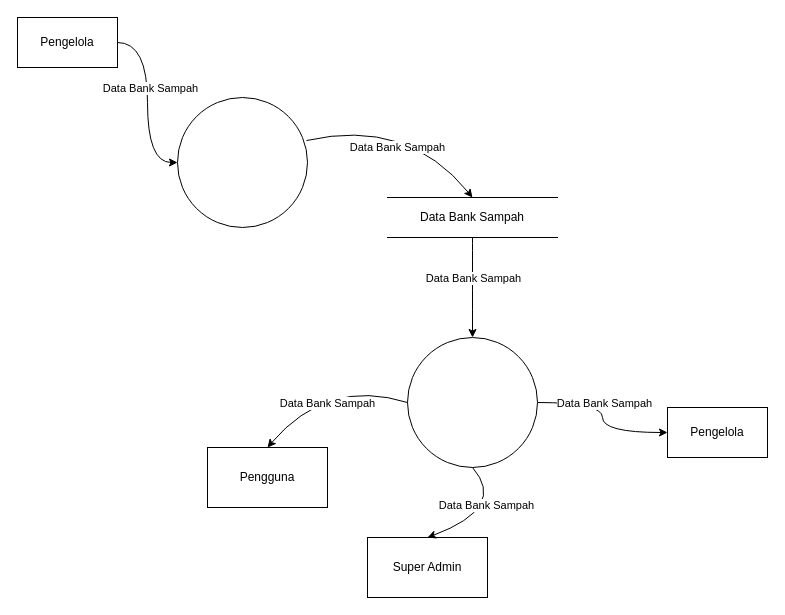
The diagram is 785 pixels wide and 615 high, and some of its shapes have lost their labels. The shapes that lost their labels are listed below. From the top down, each one's centre as x and y in pixels, then its label:
At (x=242, y=162): "1.0 Input Data Bank Sampah".
At (x=472, y=402): "2.0 Menampilkan Data Bank Sampah".
